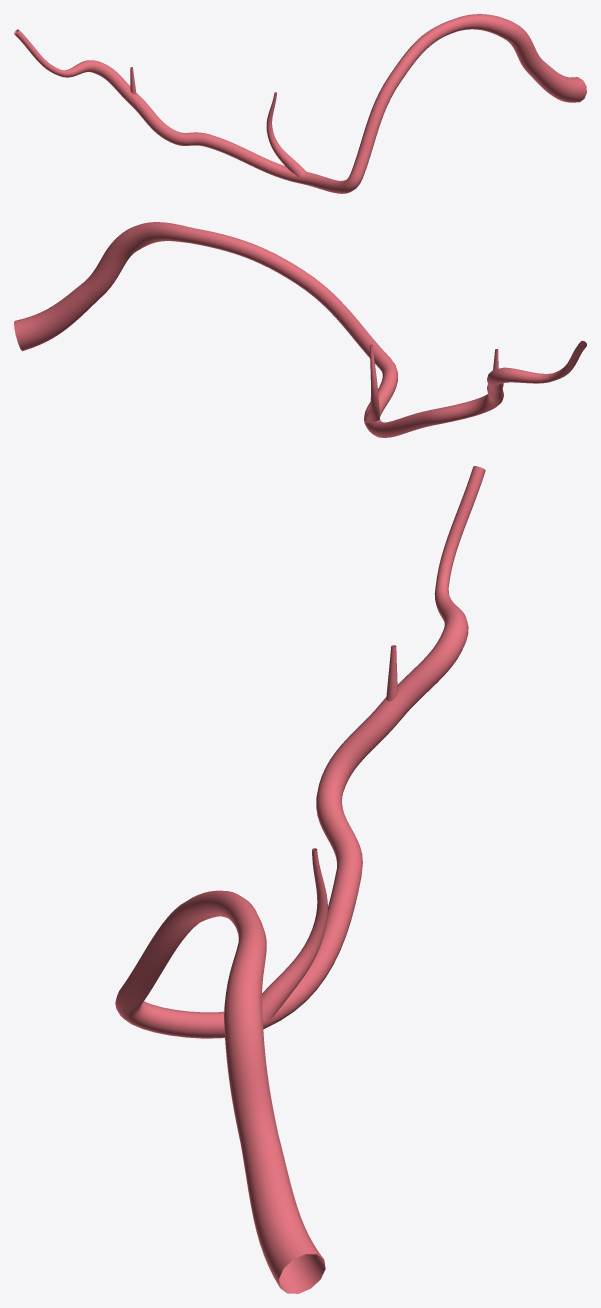
3 renders of one model, top to bottom at view 1: azimuth 30°, elevation 25°; view 2: azimuth 150°, elevation 25°; view 3: azimuth 270°, elevation 25°, orthographic. The views are drawn at different scales.
Parts seen in each view (by area): view 1: ZA_25973fad85f1b37a; view 2: ZA_25973fad85f1b37a; view 3: ZA_25973fad85f1b37a.
Boxes of the visible parts, <box> form: ZA_25973fad85f1b37a: <box>14,14,586,193</box>; ZA_25973fad85f1b37a: <box>14,222,586,437</box>; ZA_25973fad85f1b37a: <box>115,466,485,1293</box>.
Size of the model in its own units: 0.0921 by 0.0285 by 0.0282.
